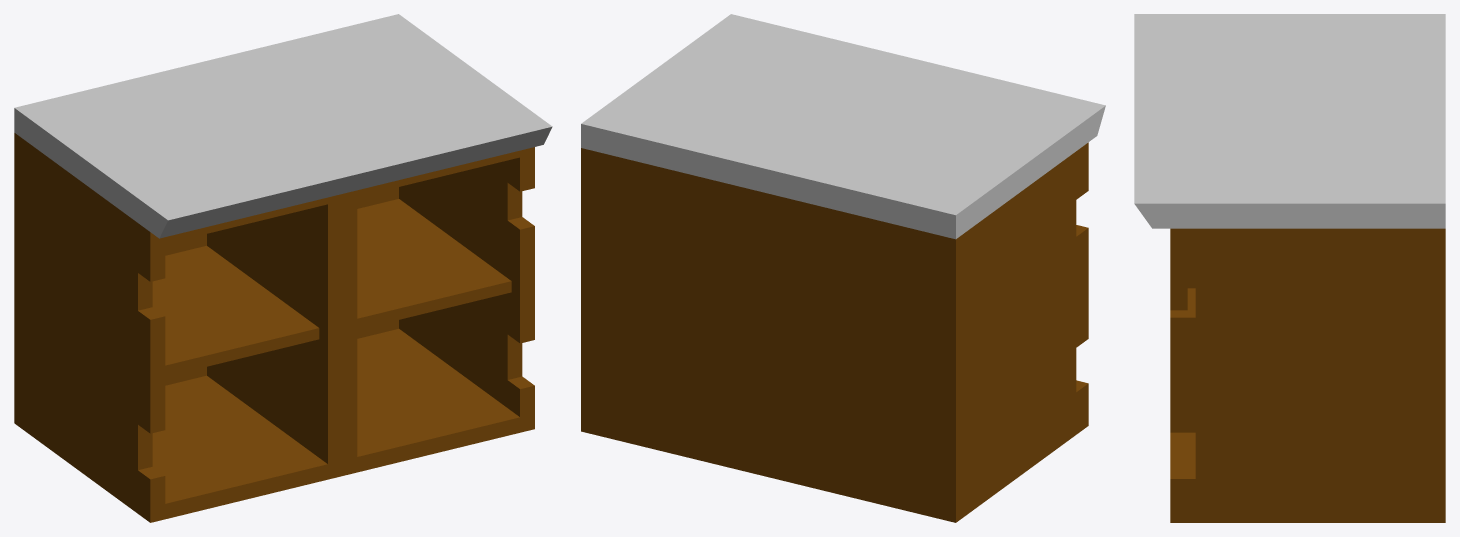
The model's file is High_Cupboard_1.fbx.
3 renders of one model, left to right at view 1: azimuth 30°, elevation 25°; view 2: azimuth 150°, elevation 25°; view 3: azimuth 270°, elevation 25°, orthographic. The views are drawn at different scales.
Visible parts, largest first — view 1: Cube.127; view 2: Cube.127; view 3: Cube.127.
Part boxes in pixels (bbox=[...]): Cube.127: bbox=[14, 14, 552, 522]; Cube.127: bbox=[581, 14, 1105, 522]; Cube.127: bbox=[1134, 14, 1445, 522].
Size of the model in its own units: 101 by 78.82 by 69.68.
